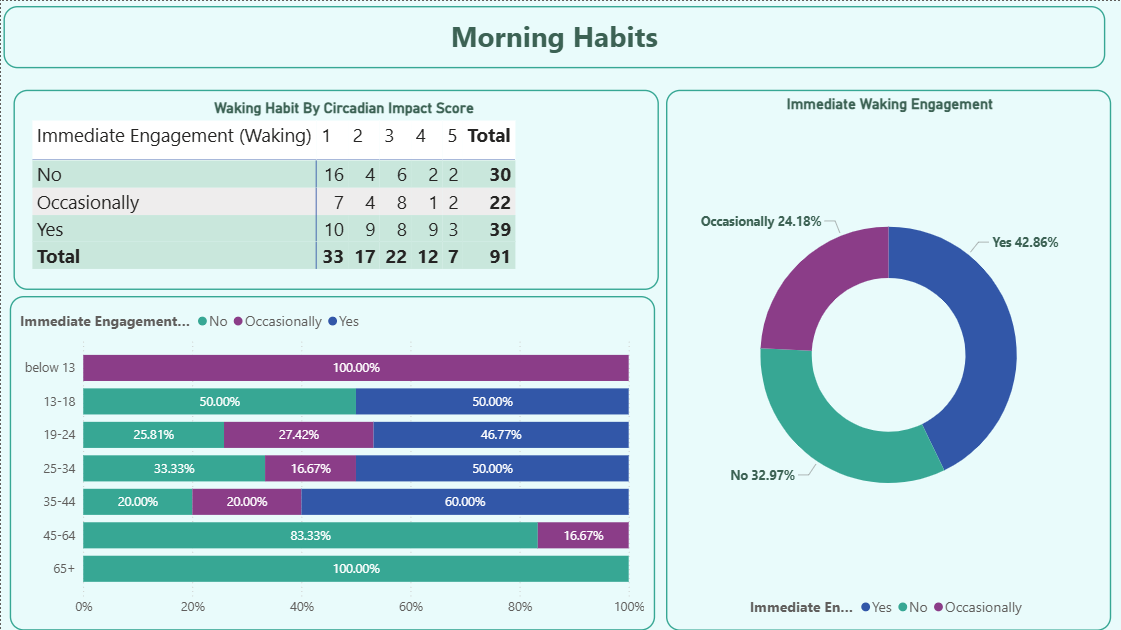

Layout of this report page (visuals, bound fields, positions):
{"tool":"powerbi","page":{"name":"Morning Habits","canvas":[1280,720],"ordinal":3},"visuals":[{"type":"donutChart","title":"Immediate Waking Engagement ","fields":{"Category":["Form responses 1.Immediate Engagement (Waking)  "],"Y":["Form responses 1.Total Responses"]},"box":[760.6,101.5,508.7,618.8],"z":0},{"type":"hundredPercentStackedBarChart","title":" Participant Age Group and Immediate Engagement (Waking)  ","fields":{"Category":["Form responses 1.Participant Age Group"],"Series":["Form responses 1.Immediate Engagement (Waking)  "],"Y":["Form responses 1.Total Responses"]},"box":[9.8,337.5,737.4,382.7],"z":1000},{"type":"pivotTable","title":"Waking Habit By Circadian Impact Score","fields":{"Columns":["Form responses 1.Perceived Circadian Impact  "],"Rows":["Form responses 1.Immediate Engagement (Waking)  "],"Values":["Form responses 1.Total Responses"]},"box":[14,101.5,737.4,228.7],"z":2000},{"type":"textbox","box":[2.4,6.1,1259.5,70.9],"z":3000}]}

Visuals, with their boxes in screenshot pixels (x1, y1, x2, y2), scaled from the page's 1280x720 canvas onto the 1121x630 screenshot:
"Immediate Waking Engagement " donutChart: 666/89/1112/629
" Participant Age Group and Immediate Engagement (Waking)  " hundredPercentStackedBarChart: 9/295/654/629
"Waking Habit By Circadian Impact Score" pivotTable: 12/89/658/289
textbox: 2/5/1105/67
